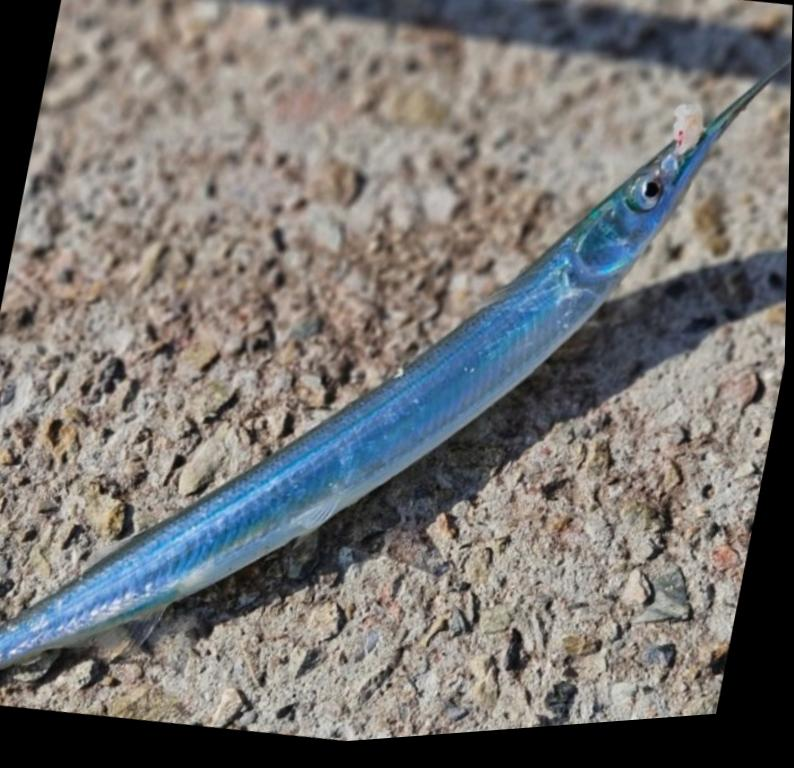fish: (0, 69, 792, 675)
